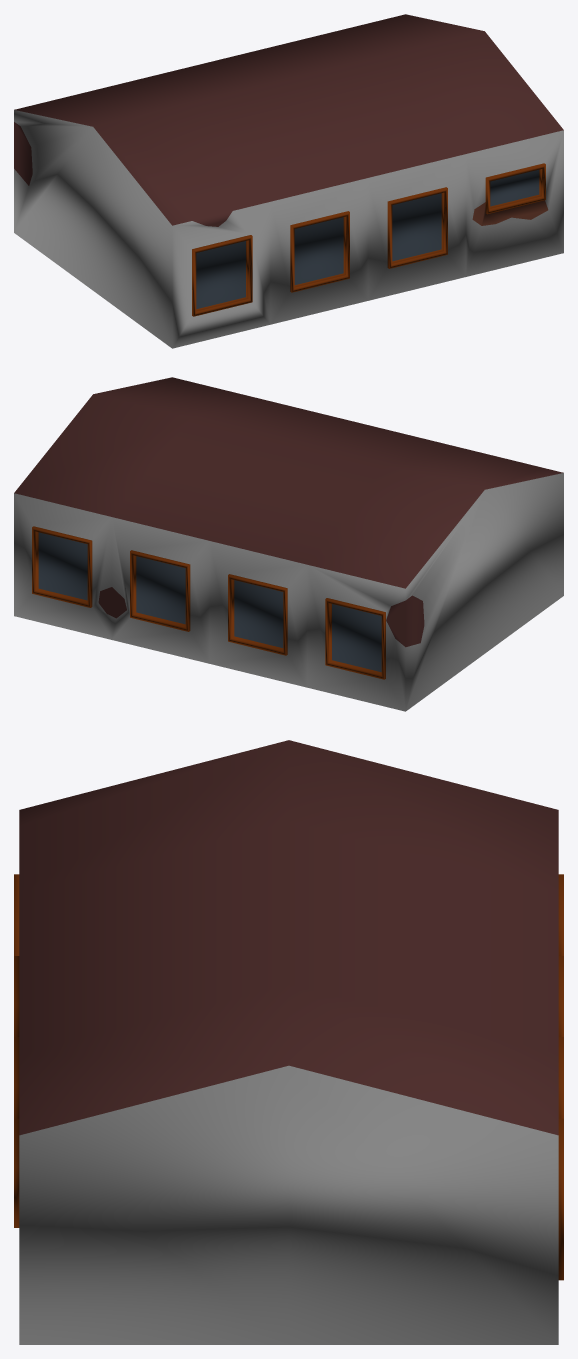
Rendered from House2.glb.
The picture shows the model from 3 angles, top to bottom: view 1: azimuth 30°, elevation 25°; view 2: azimuth 150°, elevation 25°; view 3: azimuth 270°, elevation 25°; orthographic projection. The views are drawn at different scales.
Visible parts, largest first — view 1: House2; view 2: House2; view 3: House2.
Boxes of the visible parts, box(x1,y1,x2,y2) form: House2: box(14, 14, 563, 348); House2: box(14, 377, 563, 711); House2: box(14, 740, 563, 1344).
Size of the model in its own units: 20 by 8 by 14.28.
1 material, 1 textured.
